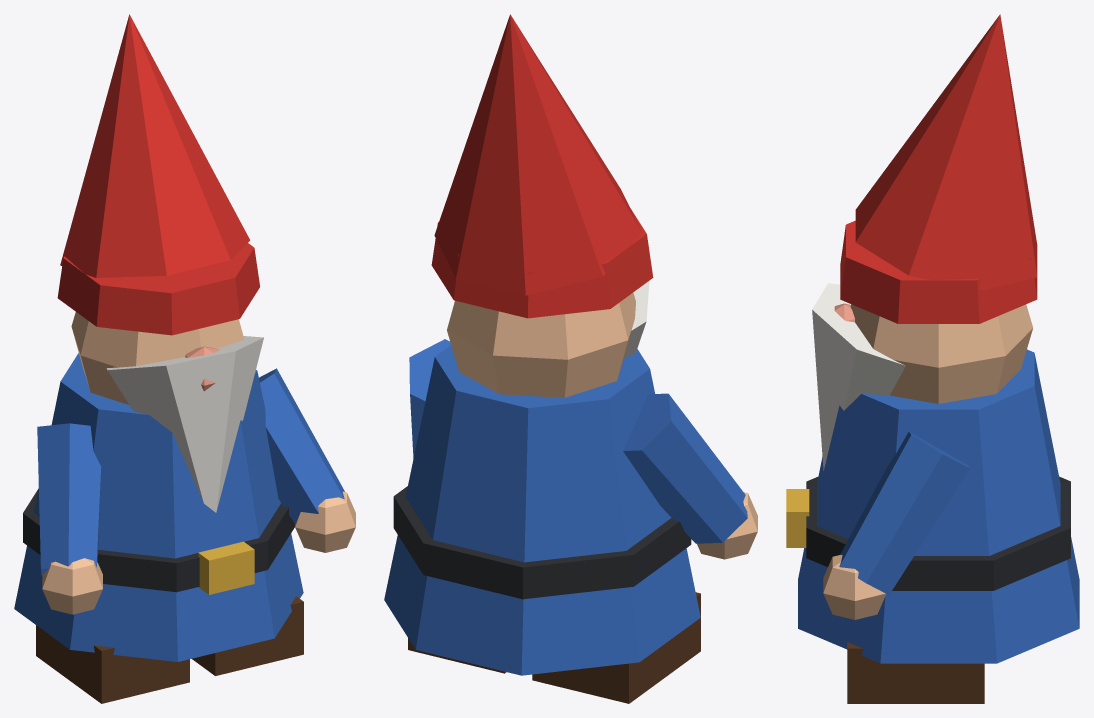
File: prop_gnome.glb
3 views of the same model, side by side, from view 1: azimuth 30°, elevation 25°; view 2: azimuth 150°, elevation 25°; view 3: azimuth 270°, elevation 25° (orthographic). The views are drawn at different scales.
Visible parts, largest first — view 1: prop_gnome; view 2: prop_gnome; view 3: prop_gnome.
Boxes of the visible parts, x1,y1,x2,y2 form: prop_gnome: (14, 14, 355, 703); prop_gnome: (384, 14, 757, 703); prop_gnome: (786, 14, 1079, 703).
Size of the model in its own units: 0.248 by 0.4623 by 0.1924.
